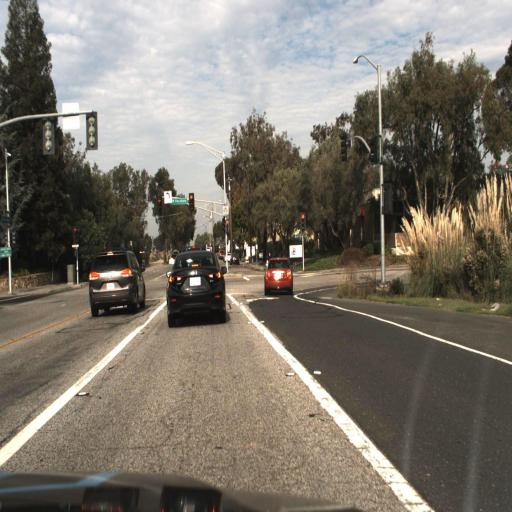car: (167, 248, 223, 324), (88, 248, 146, 316), (265, 256, 292, 300)
trafficLight-Red: (297, 209, 309, 233), (186, 188, 196, 215)
trafficLight-RedLeft: (155, 194, 162, 216)
